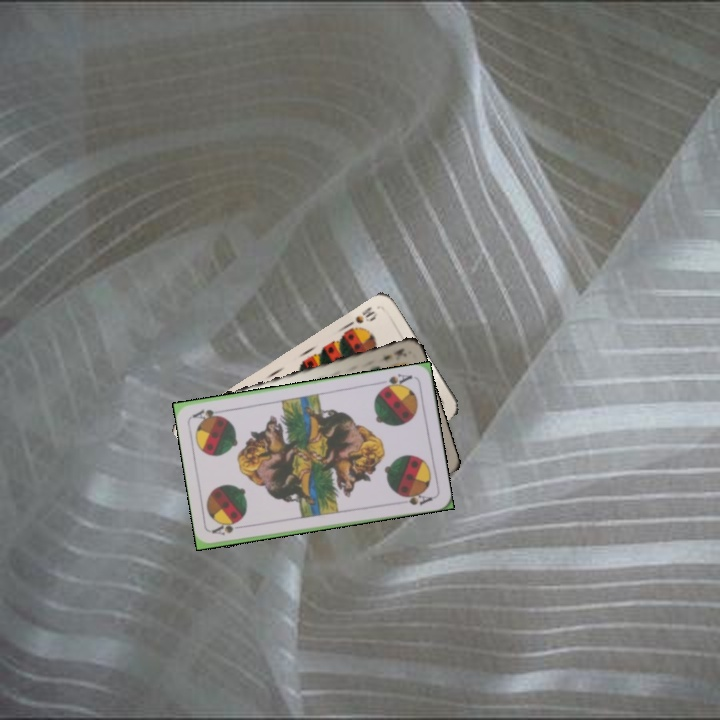EK: (379, 344, 408, 363)
S10: (344, 302, 380, 329)
SA: (377, 370, 415, 393), (209, 519, 249, 538)
